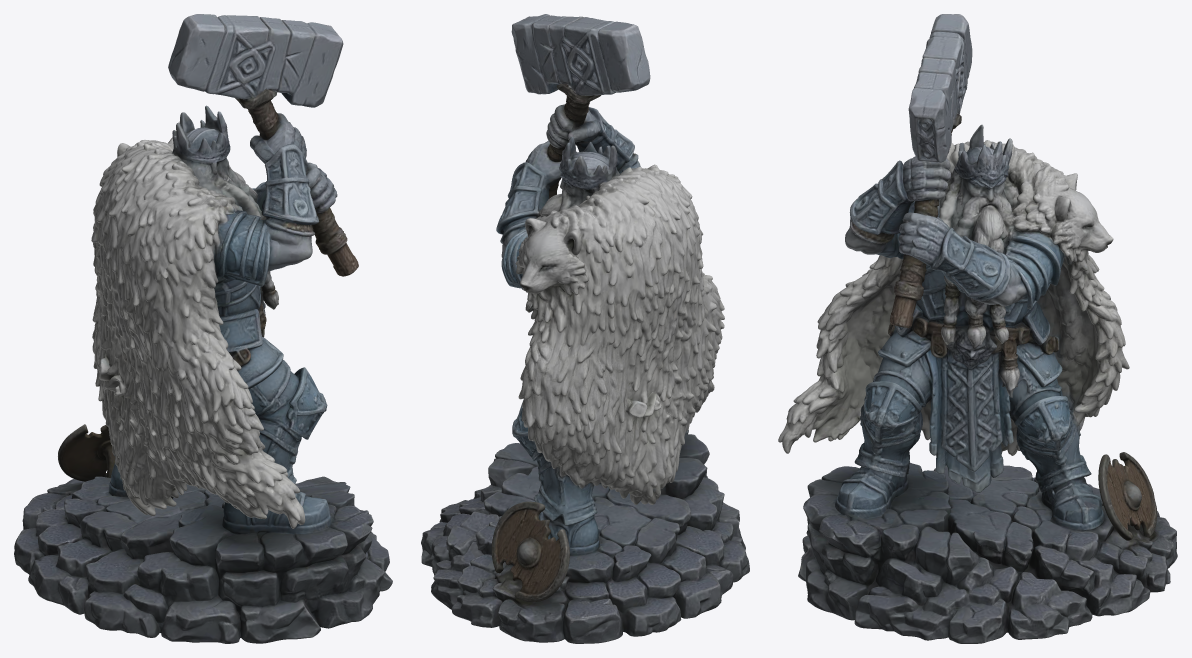
Rendered from compress_wzhaxce8eqoypgib.glb.
3 renders of one model, left to right at view 1: azimuth 30°, elevation 25°; view 2: azimuth 150°, elevation 25°; view 3: azimuth 270°, elevation 25°, orthographic. The views are drawn at different scales.
Parts seen in each view (by area): view 1: tripo_node_9761516a-81ad-4828-93f3-47e4a995d37e; view 2: tripo_node_9761516a-81ad-4828-93f3-47e4a995d37e; view 3: tripo_node_9761516a-81ad-4828-93f3-47e4a995d37e.
Boxes of the visible parts, <box> form: tripo_node_9761516a-81ad-4828-93f3-47e4a995d37e: <box>14,14,392,643</box>; tripo_node_9761516a-81ad-4828-93f3-47e4a995d37e: <box>421,14,749,643</box>; tripo_node_9761516a-81ad-4828-93f3-47e4a995d37e: <box>778,14,1177,643</box>.
Size of the model in its own units: 0.5723 by 1 by 0.6644.
1 material, 1 textured.
